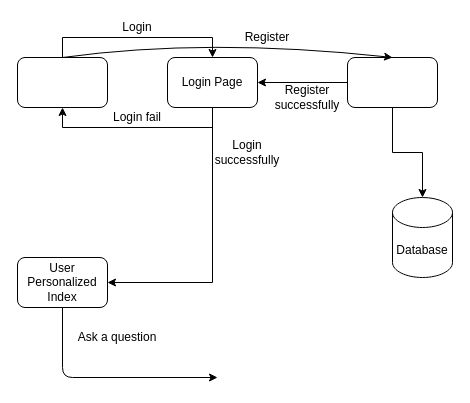
This 470x403 diagram has some shape labels left out. The centre of each missing label's shape, as x and y in pixels:
"Index" belongs at [62,82].
"Register Page" belongs at [392,82].
